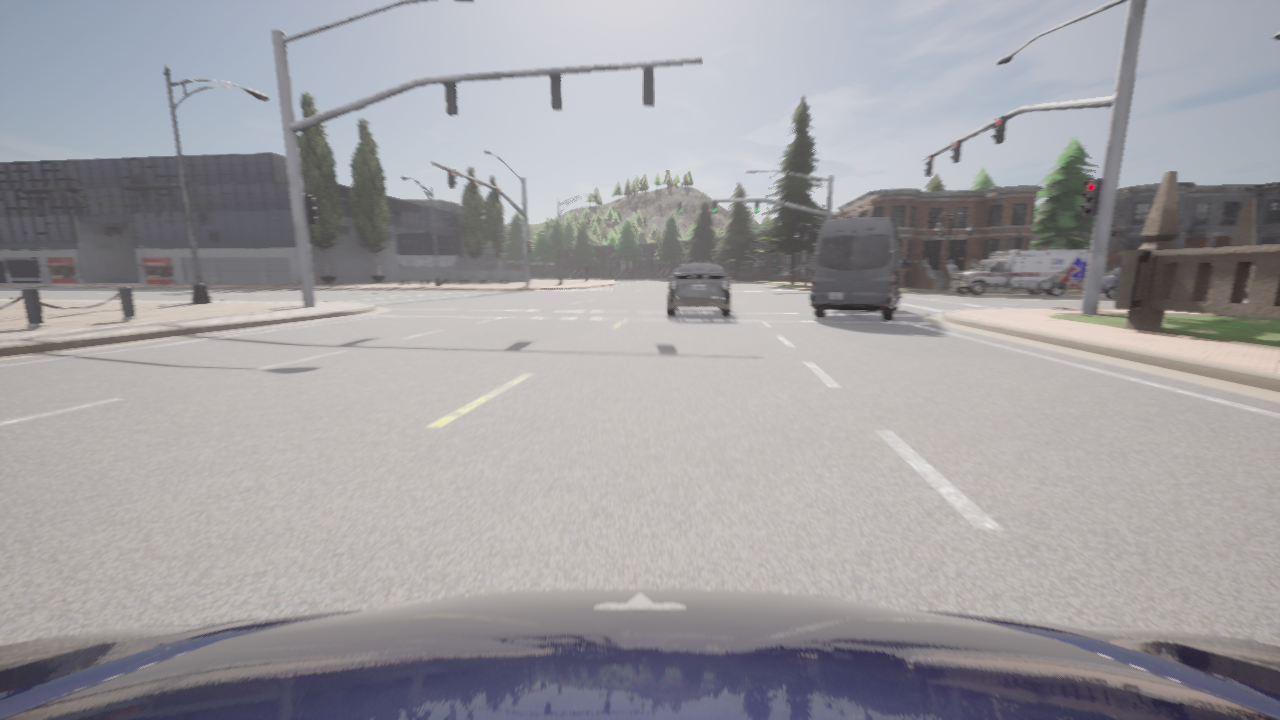cyclist: (0, 588, 1279, 719), (810, 217, 907, 320), (950, 250, 1089, 296), (666, 262, 731, 316), (1081, 268, 1120, 299), (1245, 274, 1249, 292)
